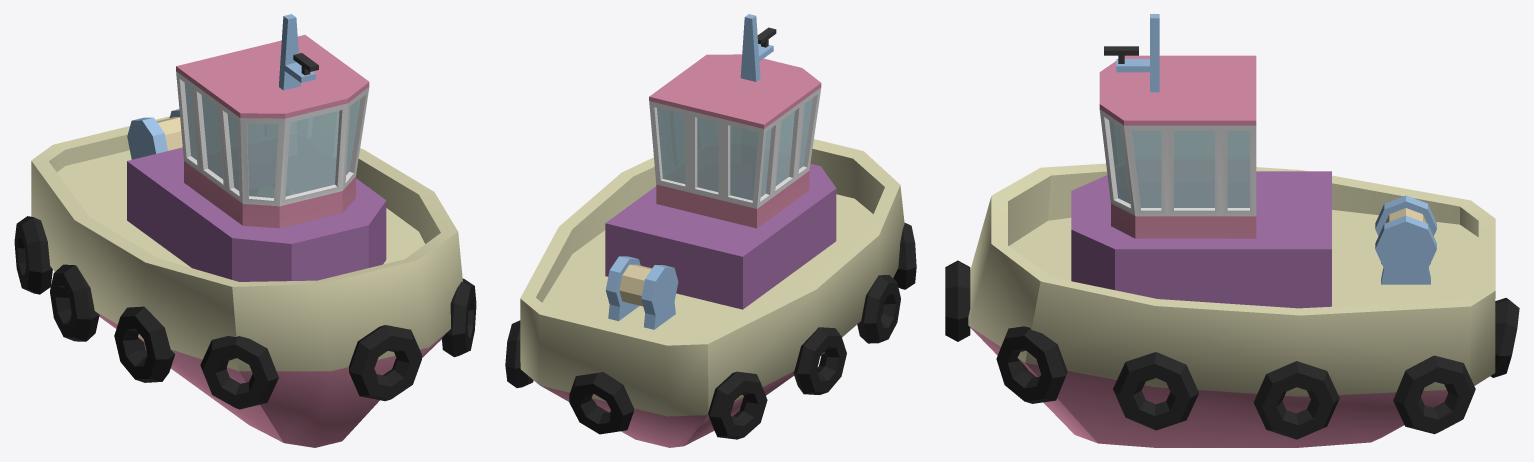
The model's file is TugBoat.fbx.
3 renders of one model, left to right at view 1: azimuth 30°, elevation 25°; view 2: azimuth 150°, elevation 25°; view 3: azimuth 270°, elevation 25°, orthographic. The views are drawn at different scales.
Parts seen in each view (by area): view 1: TugBoat; view 2: TugBoat; view 3: TugBoat.
Boxes of the visible parts, box(x1,y1,x2,y2) form: TugBoat: box(14, 14, 476, 447); TugBoat: box(505, 14, 916, 447); TugBoat: box(945, 14, 1519, 447).
Bounding box in the file's own units: 36.11 × 42.94 × 54.23.
